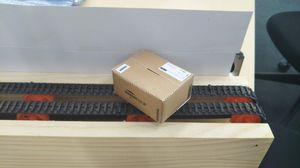box1: (110, 47, 193, 121)
